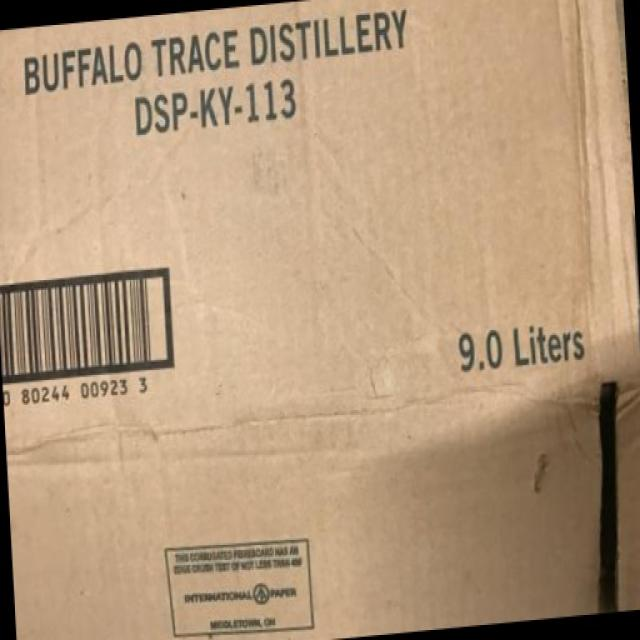carton: (14, 10, 600, 614)
